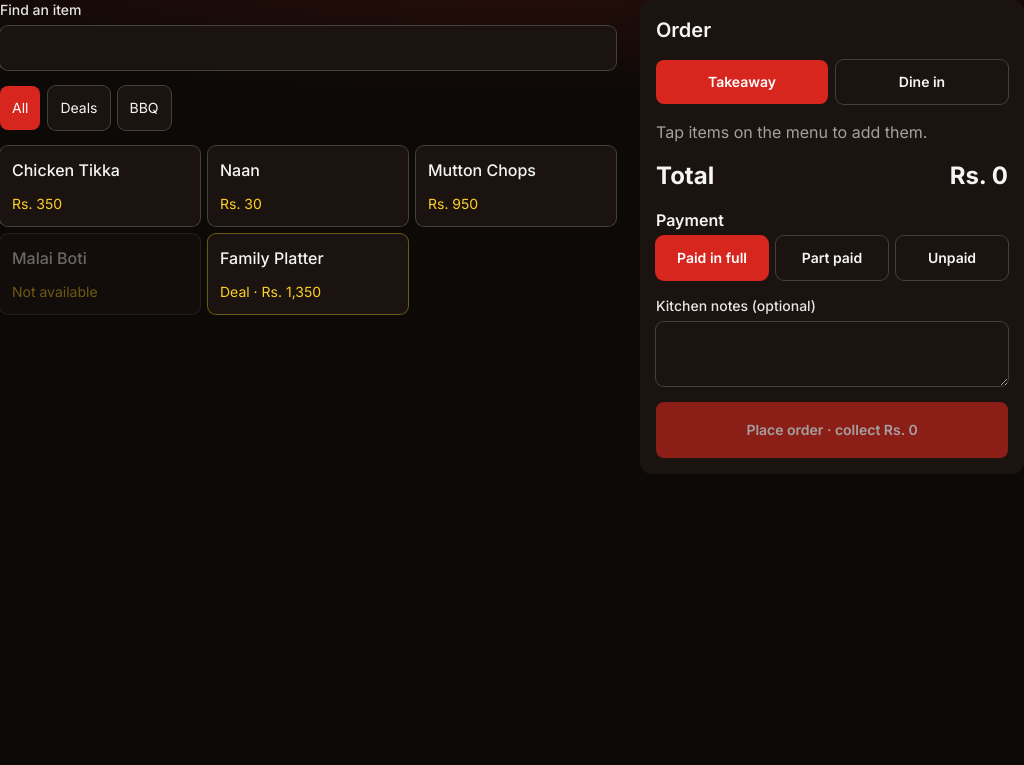
Test: the counter screen › unpaid needs the khata number and name, and shows the khata it goes on
The image size is (1024, 765).
Click the button "Naan Rs. 30": (308, 186) x1=208 y1=146 x2=408 y2=226
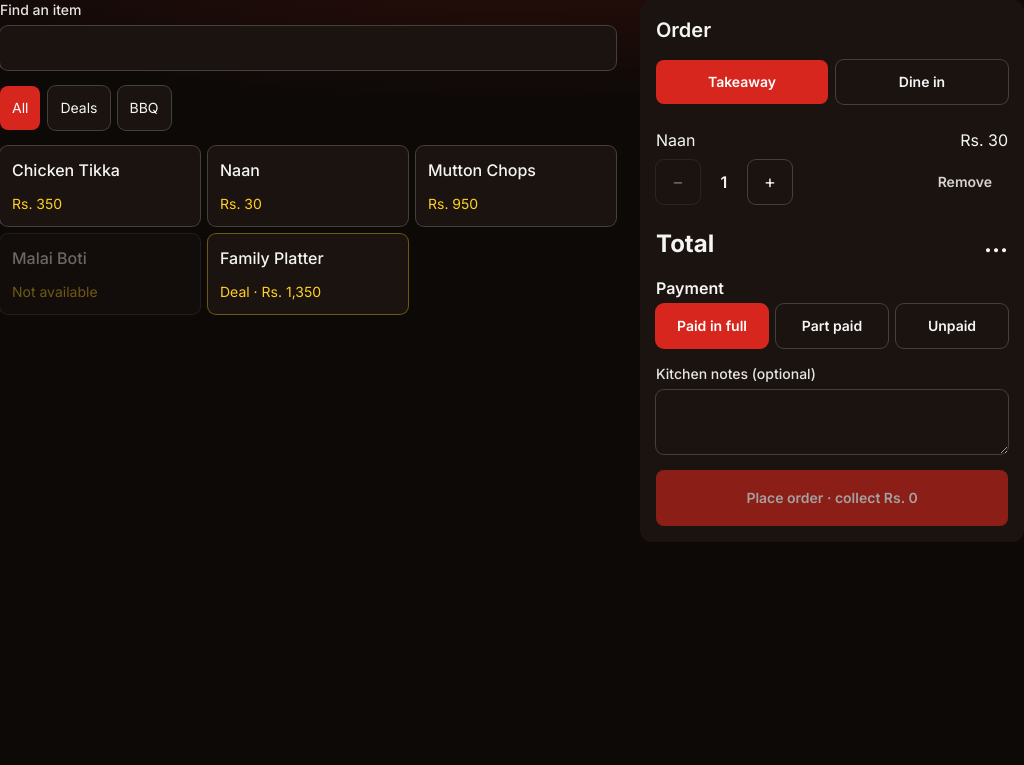
Click the radio button labelled "Unpaid": (952, 326) x1=896 y1=304 x2=1008 y2=348
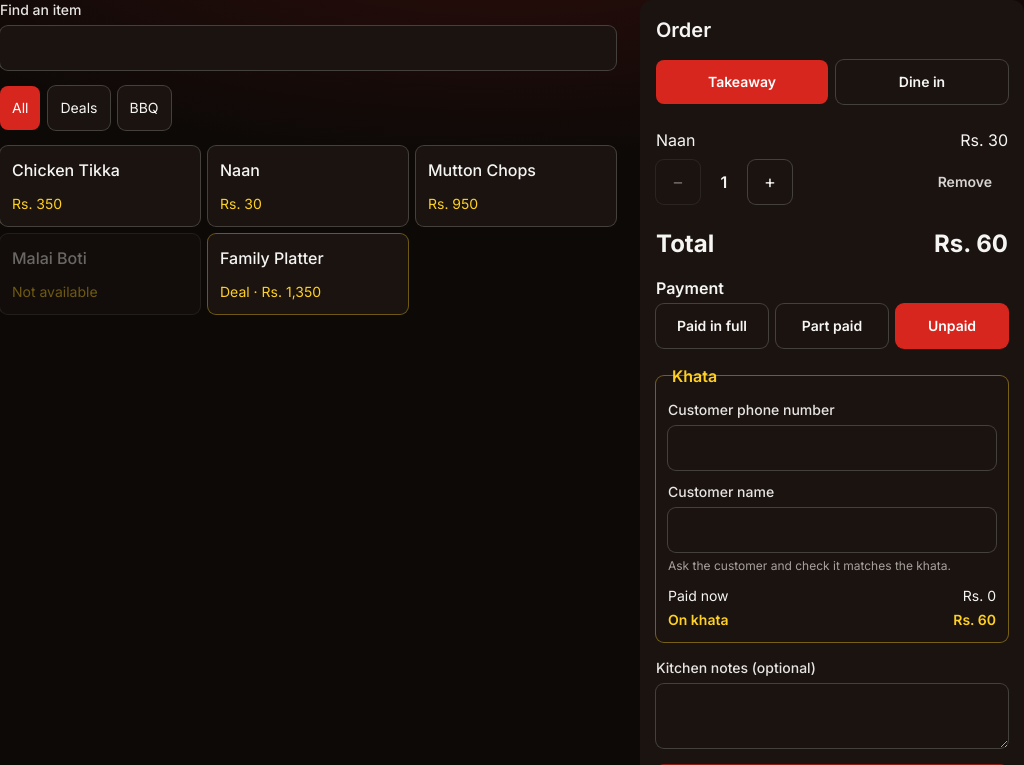
In the field labelled "Customer phone number": (832, 448) x1=668 y1=426 x2=996 y2=470, type "0333 1234500"
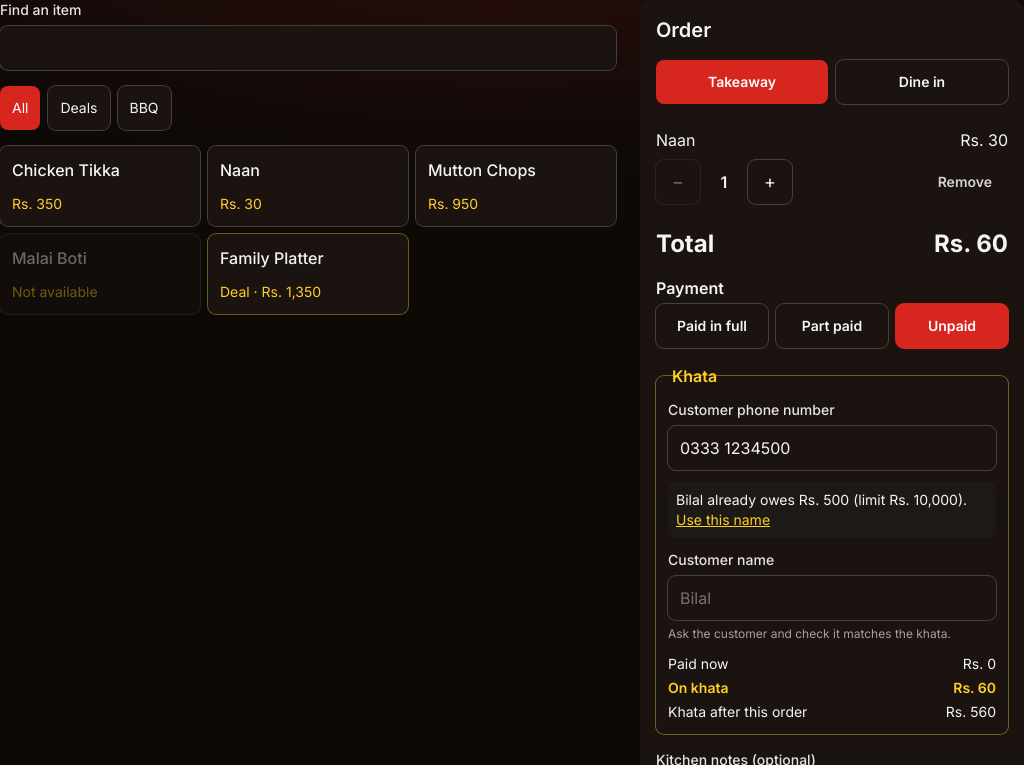
Expected: the text "Bilal already owes Rs. 500 (limit Rs. 10,000). Use this name" is shown, x1=668 y1=482 x2=996 y2=538
Click the button "Use this name": (723, 520) x1=676 y1=510 x2=770 y2=530
(page scrolled)
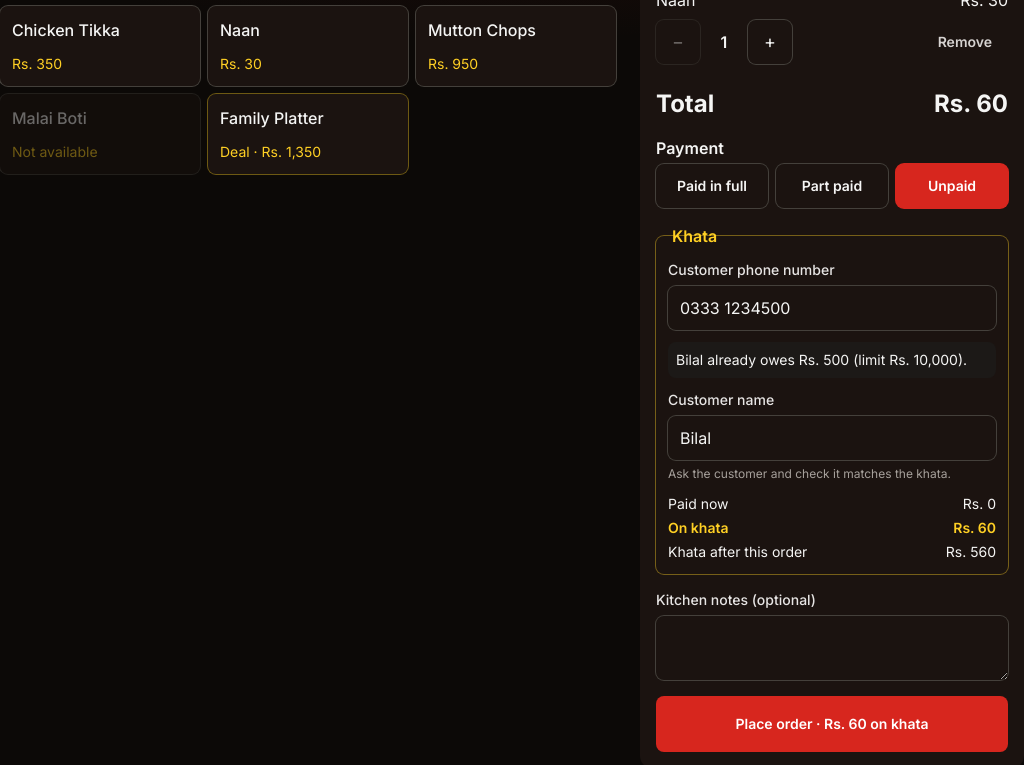
Expected: the text "Rs. 560" is shown, x1=946 y1=543 x2=996 y2=560
Expected: the field labelled "Customer name" holds "Bilal", x1=668 y1=416 x2=996 y2=460
Expected: the button "Place order · Rs. 60 on khata" is enabled
Click the button "Place order · Rs. 60 on khata": (832, 724) x1=656 y1=696 x2=1008 y2=752
(page scrolled)
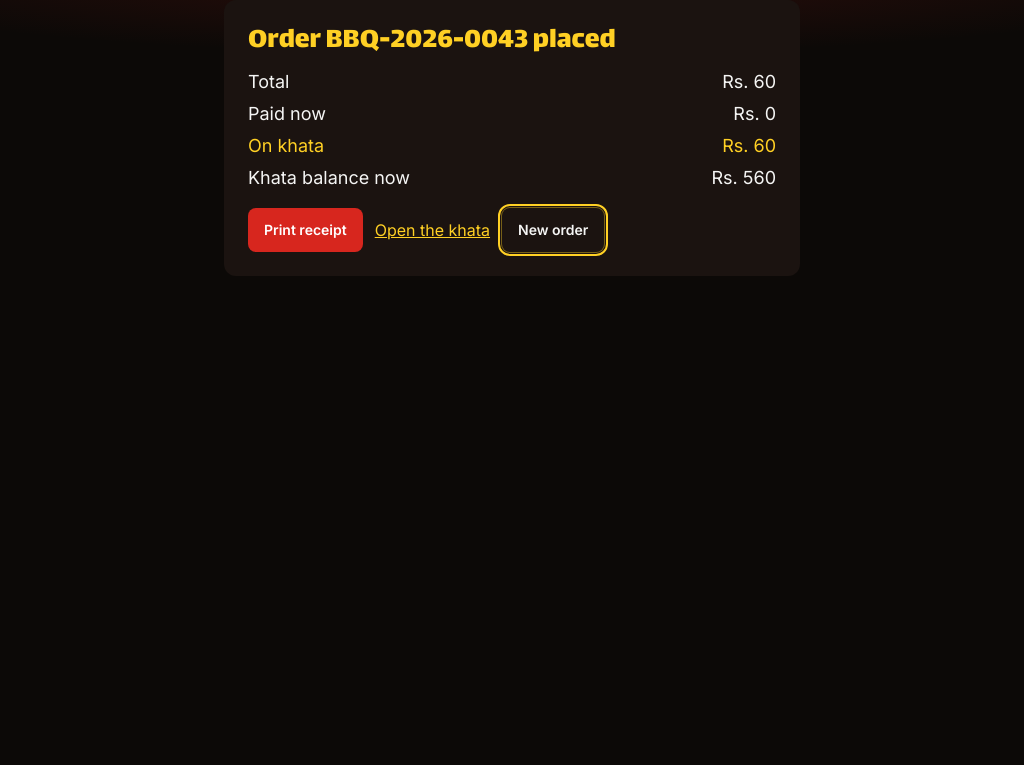
Expected: the heading "Order BBQ-2026-0043 placed" is shown, x1=248 y1=18 x2=616 y2=65
